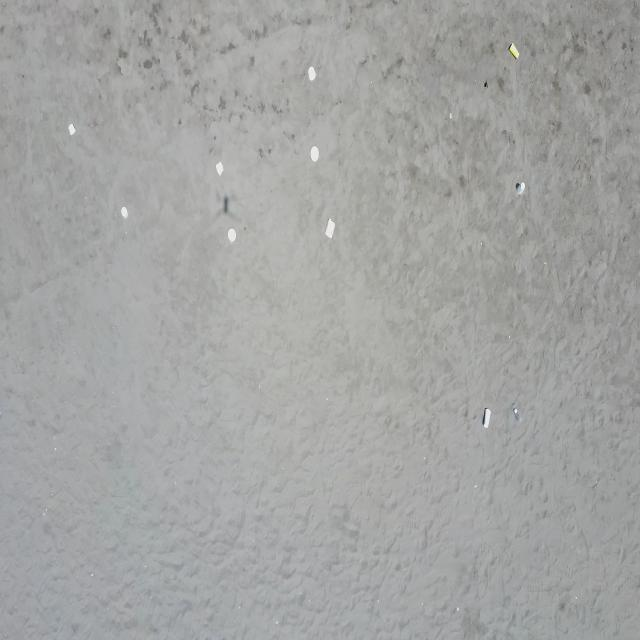take-away-containers: (324, 218, 336, 240), (310, 145, 320, 163), (308, 66, 316, 82), (228, 228, 237, 242), (216, 161, 224, 176), (68, 124, 76, 136), (121, 206, 128, 219)
takeaway-cup: (508, 41, 520, 60), (512, 403, 522, 423), (484, 408, 491, 429), (517, 182, 526, 196)
